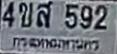2: (93, 4, 106, 29)
4: (2, 1, 13, 26)
5: (64, 3, 78, 28)
9: (79, 4, 92, 28)
A02: (18, 1, 32, 27)
A40: (36, 0, 52, 27)
BKK: (9, 35, 101, 53)
